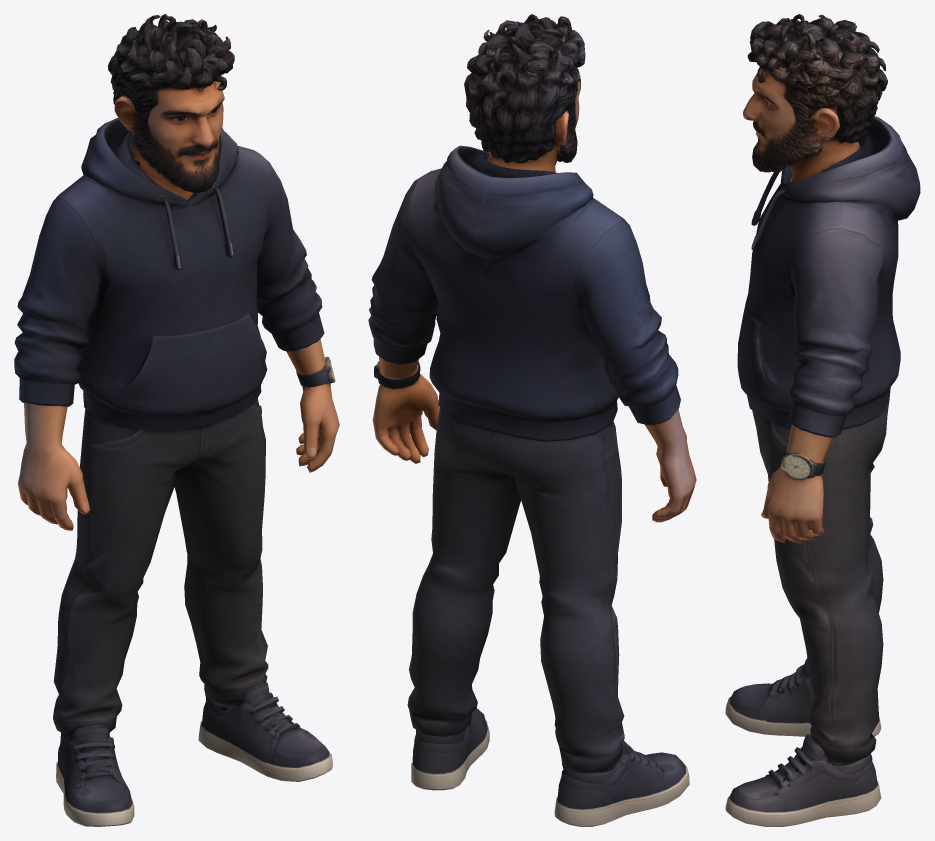
File: avatar1.glb
The picture shows the model from 3 angles, left to right: view 1: azimuth 30°, elevation 25°; view 2: azimuth 150°, elevation 25°; view 3: azimuth 270°, elevation 25°; orthographic projection.
Visible parts, largest first — view 1: tripo_5d481ba2_8cad_4e4f_9cf7_a0eaa635d25c; view 2: tripo_5d481ba2_8cad_4e4f_9cf7_a0eaa635d25c; view 3: tripo_5d481ba2_8cad_4e4f_9cf7_a0eaa635d25c.
Part boxes in pixels (x1=…): tripo_5d481ba2_8cad_4e4f_9cf7_a0eaa635d25c: x1=14, y1=14, x2=339, y2=826; tripo_5d481ba2_8cad_4e4f_9cf7_a0eaa635d25c: x1=368, y1=14, x2=696, y2=826; tripo_5d481ba2_8cad_4e4f_9cf7_a0eaa635d25c: x1=725, y1=14, x2=920, y2=826.
Size of the model in its own units: 0.4312 by 0.9995 by 0.2358.
1 material, 1 textured.
